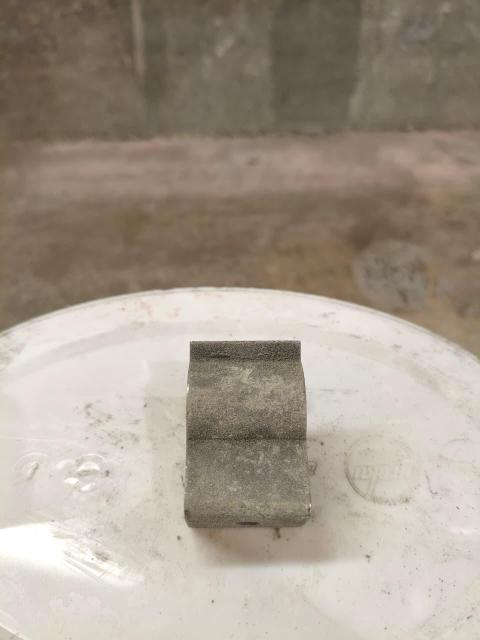Metal: (182, 333, 318, 530)
